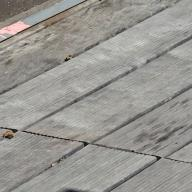Bee: (0, 128, 30, 146)
